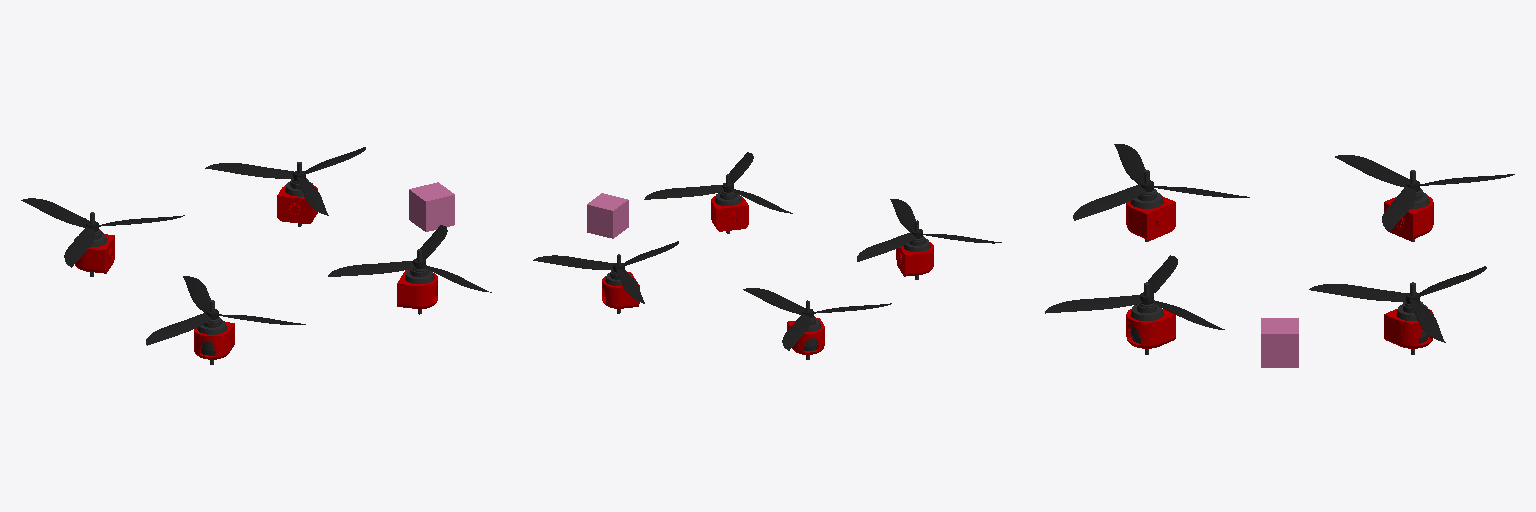
The robot description file, URDF, robot "beetle":
<?xml version="1.0" ?>
<!-- =================================================================================== -->
<!-- |    This document was autogenerated by xacro from robots/beetle.urdf.xacro       | -->
<!-- |    EDITING THIS FILE BY HAND IS NOT RECOMMENDED                                 | -->
<!-- =================================================================================== -->
<robot name="beetle">
  <!-- general attribute -->
  <baselink name="fc"/>
  <thrust_link name="thrust"/>
  <m_f_rate value="-0.0165"/>
  <!-- [N] -->

    ## dummy

  <link name="root">
    <inertial>
      <origin rpy="0 0 0" xyz="0 0 0"/>
      <mass value="0.00001"/>
      <inertia ixx="0.000001" ixy="0.0" ixz="0.0" iyy="0.000001" iyz="0.0" izz="0.000001"/>
    </inertial>
  </link>
  <joint name="root_joint" type="fixed">
    <parent link="root"/>
    <child link="base_link"/>
    <origin rpy="0 0 0" xyz="0 0 0"/>
    <axis xyz="0 0 1"/>
  </joint>


    ## link

  <link name="base_link">
    <inertial>
      <origin rpy="0 0 0" xyz="0.0050550 0.0002059 0.1416011"/>
      <mass value="2.3422286"/>
      <inertia ixx="0.0445802" ixy="-0.0000023" ixz="-0.0007664" iyy="0.0743446" iyz="-0.0000396" izz="0.0988890"/>
    </inertial>
    <visual>
      <origin rpy="0 0 3.141592" xyz="0 0 0.07"/>
      <geometry>
        <!-- <mesh filename="package://beetle/mesh/base_link.dae"/> -->
        <!-- <mesh filename="package://beetle/mesh/base_link.STL"/> -->
        <!-- <mesh filename="package://beetle/mesh/base_link_beetle_art.dae"/> -->
        <mesh filename="package://beetle/mesh/base_link_hyper.dae"/>
      </geometry>
    </visual>
    <collision>
      <origin rpy="0 0 0" xyz="0 0 0.1205"/>
      <geometry>
        <box size="0.52 0.52 0.241"/>
      </geometry>
    </collision>
  </link>
  <gazebo reference="base_link">
    <dampingFactor>0.00</dampingFactor>
  </gazebo>
  <link name="fc">
    <inertial>
      <origin rpy="0 0 0" xyz="0 0 0"/>
      <mass value="0.00001"/>
      <inertia ixx="0.000001" ixy="0.0" ixz="0.0" iyy="0.000001" iyz="0.0" izz="0.000001"/>
    </inertial>
  </link>
  <joint name="fc_joint" type="fixed">
    <child link="fc"/>
    <parent link="base_link"/>
    <origin rpy="0 0 0" xyz="0 0 0.12947"/>
    <axis xyz="0 0 1"/>
  </joint>


    ## rotor arm macro



    ## dummy rotor arms


      ## link

  <link name="rotor_arm1">
    <inertial>
      <origin rpy="0 0 0" xyz="0 0 0"/>
      <mass value="0.0001"/>
      <inertia ixx="0.000001" ixy="0.0" ixz="0.0" iyy="0.0001" iyz="0.0" izz="0.0001"/>
    </inertial>
  </link>

      ## joint

  <joint name="base_arm_joint1" type="fixed">
    <parent link="base_link"/>
    <child link="rotor_arm1"/>
    <origin rpy="0 0 0.7853981633974483" xyz="0.12488 0.12509 0.1185"/>
    <axis xyz="0 0 1"/>
  </joint>

      ## link

  <link name="rotor_arm2">
    <inertial>
      <origin rpy="0 0 0" xyz="0 0 0"/>
      <mass value="0.0001"/>
      <inertia ixx="0.000001" ixy="0.0" ixz="0.0" iyy="0.0001" iyz="0.0" izz="0.0001"/>
    </inertial>
  </link>

      ## joint

  <joint name="base_arm_joint2" type="fixed">
    <parent link="base_link"/>
    <child link="rotor_arm2"/>
    <origin rpy="0 0 2.356194490192345" xyz="-0.12488 0.12509 0.1185"/>
    <axis xyz="0 0 1"/>
  </joint>

      ## link

  <link name="rotor_arm3">
    <inertial>
      <origin rpy="0 0 0" xyz="0 0 0"/>
      <mass value="0.0001"/>
      <inertia ixx="0.000001" ixy="0.0" ixz="0.0" iyy="0.0001" iyz="0.0" izz="0.0001"/>
    </inertial>
  </link>

      ## joint

  <joint name="base_arm_joint3" type="fixed">
    <parent link="base_link"/>
    <child link="rotor_arm3"/>
    <origin rpy="0 0 3.9269908169872414" xyz="-0.12488 -0.12509 0.1185"/>
    <axis xyz="0 0 1"/>
  </joint>

      ## link

  <link name="rotor_arm4">
    <inertial>
      <origin rpy="0 0 0" xyz="0 0 0"/>
      <mass value="0.0001"/>
      <inertia ixx="0.000001" ixy="0.0" ixz="0.0" iyy="0.0001" iyz="0.0" izz="0.0001"/>
    </inertial>
  </link>

      ## joint

  <joint name="base_arm_joint4" type="fixed">
    <parent link="base_link"/>
    <child link="rotor_arm4"/>
    <origin rpy="0 0 -0.7853981633974483" xyz="0.12488 -0.12509 0.1185"/>
    <axis xyz="0 0 1"/>
  </joint>


    ## dummy link for the contact point coordinate

  <link name="contact_point">
    <inertial>
      <origin rpy="0 0 0" xyz="0 0 0"/>
      <mass value="0.0001"/>
      <inertia ixx="0.000001" ixy="0.0" ixz="0.0" iyy="0.0001" iyz="0.0" izz="0.0001"/>
    </inertial>
  </link>
  <joint name="cp_base_joint" type="fixed">
    <parent link="base_link"/>
    <child link="contact_point"/>
    <origin rpy="0 0 0" xyz="0.26 0 0"/>
    <axis xyz="0 0 1"/>
  </joint>
  <gazebo reference="linkbase_link">
    <mu1>0.1</mu1>
    <mu2>0.1</mu2>
  </gazebo>

    ## link
    #### rotor parent link (virtual) ####

  <link name="gimbal_link1">
    <inertial>
      <origin rpy="0 0 0" xyz="0.02239457 0.0 0.00766902"/>
      <mass value="0.15429"/>
      <inertia ixx="0.00006797" ixy="0.00000001" ixz="0.00000122" iyy="0.00006788" iyz="0.00000" izz="0.00007058"/>
    </inertial>
    <collision>
      <origin rpy="0 0 0" xyz="0.0 0 0"/>
      <geometry>
        <cylinder length="0.033" radius="0.02"/>
      </geometry>
    </collision>
    <visual>
      <origin rpy="0 0 0" xyz="0 0 0"/>
      <geometry>
        <mesh filename="package://beetle/mesh/rotor_module.dae"/>
      </geometry>
    </visual>
  </link>
  <gazebo reference="gimbal_link1">
    <dampingFactor>0.00</dampingFactor>
  </gazebo>


    ## rotor parent link (virtual)

  <link name="rotor_parent1">
    <inertial>
      <origin rpy="0 0 0" xyz="0 0 0"/>
      <mass value="0.00001"/>
      <inertia ixx="0.000001" ixy="0.0" ixz="0.0" iyy="0.000001" iyz="0.0" izz="0.000001"/>
    </inertial>
  </link>


    ## thrust link (virtual)

  <link name="thrust1">
    <inertial>
      <origin rpy="0 0 0" xyz="0 0 0"/>
      <mass value="0.005"/>
      <inertia ixx="0.001" ixy="0.0" ixz="0.0" iyy="0.001" iyz="0.0" izz="0.001"/>
    </inertial>
    <!-- <visual>
      <origin rpy="0 0 0" xyz="0 0 0"/>
      <geometry>
        <mesh filename="package://beetle/mesh/prop_5inch.dae"/>
      </geometry>
    </visual> -->
  </link>
  <gazebo reference="thrust1">
    <dampingFactor>0.00</dampingFactor>
  </gazebo>


    #### joints ####

    #### gimbal joints ####

  <joint name="gimbal1" type="revolute">
    <limit effort="6.6" lower="-1.57" upper="1.57" velocity="3.0"/>
    <parent link="rotor_arm1"/>
    <child link="gimbal_link1"/>
    <origin rpy="0 0 0" xyz="0 0 0"/>
    <axis xyz="1 0 0"/>
    <dynamics damping="0.8" friction="0.0"/>
  </joint>
  <transmission name="joint_tran1">
    <type>transmission_interface/SimpleTransmission</type>
    <joint name="gimbal1">
      <hardwareInterface>hardware_interface/EffortJointInterface</hardwareInterface>
    </joint>
    <actuator name="servo1">
      <hardwareInterface>hardware_interface/EffortJointInterface</hardwareInterface>
      <mechanicalReduction>1</mechanicalReduction>
    </actuator>
  </transmission>

    #### rotor parent link joint (virtual) ####

  <joint name="rotor_parent_link_joint1" type="fixed">
    <parent link="gimbal_link1"/>
    <child link="rotor_parent1"/>
    <origin rpy="0 0 0" xyz="0.018 0.00 0.00438"/>
    <axis xyz="0 0 -1"/>
  </joint>


    #### rotor joint (virtual) ####

  <joint name="rotor1" type="continuous">
    <limit effort="100.0" velocity="25.0"/>
    <parent link="rotor_parent1"/>
    <child link="thrust1"/>
    <origin rpy="0 0 0" xyz="0 0 0"/>
    <axis xyz="0 0 -1"/>
  </joint>
  <transmission name="rotor_tran1">
    <type>transmission_interface/SimpleTransmission</type>
    <joint name="rotor1">
      <hardwareInterface>RotorInterface</hardwareInterface>
    </joint>
    <actuator name="rotor_actuator1">
      <hardwareInterface>RotorInterface</hardwareInterface>
      <mechanicalReduction>1</mechanicalReduction>
    </actuator>
  </transmission>

    ## link
    #### rotor parent link (virtual) ####

  <link name="gimbal_link2">
    <inertial>
      <origin rpy="0 0 0" xyz="0.02239457 0.0 0.00766902"/>
      <mass value="0.15429"/>
      <inertia ixx="0.00006797" ixy="0.00000001" ixz="0.00000122" iyy="0.00006788" iyz="0.00000" izz="0.00007058"/>
    </inertial>
    <collision>
      <origin rpy="0 0 0" xyz="0.0 0 0"/>
      <geometry>
        <cylinder length="0.033" radius="0.02"/>
      </geometry>
    </collision>
    <visual>
      <origin rpy="0 0 0" xyz="0 0 0"/>
      <geometry>
        <mesh filename="package://beetle/mesh/rotor_module.dae"/>
      </geometry>
    </visual>
  </link>
  <gazebo reference="gimbal_link2">
    <dampingFactor>0.00</dampingFactor>
  </gazebo>


    ## rotor parent link (virtual)

  <link name="rotor_parent2">
    <inertial>
      <origin rpy="0 0 0" xyz="0 0 0"/>
      <mass value="0.00001"/>
      <inertia ixx="0.000001" ixy="0.0" ixz="0.0" iyy="0.000001" iyz="0.0" izz="0.000001"/>
    </inertial>
  </link>


    ## thrust link (virtual)

  <link name="thrust2">
    <inertial>
      <origin rpy="0 0 0" xyz="0 0 0"/>
      <mass value="0.005"/>
      <inertia ixx="0.001" ixy="0.0" ixz="0.0" iyy="0.001" iyz="0.0" izz="0.001"/>
    </inertial>
    <!-- <visual>
      <origin rpy="0 0 0" xyz="0 0 0"/>
      <geometry>
        <mesh filename="package://beetle/mesh/prop_5inch.dae"/>
      </geometry>
    </visual> -->
  </link>
  <gazebo reference="thrust2">
    <dampingFactor>0.00</dampingFactor>
  </gazebo>


    #### joints ####

    #### gimbal joints ####

  <joint name="gimbal2" type="revolute">
    <limit effort="6.6" lower="-1.57" upper="1.57" velocity="3.0"/>
    <parent link="rotor_arm2"/>
    <child link="gimbal_link2"/>
    <origin rpy="0 0 0" xyz="0 0 0"/>
    <axis xyz="1 0 0"/>
    <dynamics damping="0.8" friction="0.0"/>
  </joint>
  <transmission name="joint_tran2">
    <type>transmission_interface/SimpleTransmission</type>
    <joint name="gimbal2">
      <hardwareInterface>hardware_interface/EffortJointInterface</hardwareInterface>
    </joint>
    <actuator name="servo2">
      <hardwareInterface>hardware_interface/EffortJointInterface</hardwareInterface>
      <mechanicalReduction>1</mechanicalReduction>
    </actuator>
  </transmission>

    #### rotor parent link joint (virtual) ####

  <joint name="rotor_parent_link_joint2" type="fixed">
    <parent link="gimbal_link2"/>
    <child link="rotor_parent2"/>
    <origin rpy="0 0 0" xyz="0.018 0.00 0.00438"/>
    <axis xyz="0 0 1"/>
  </joint>


    #### rotor joint (virtual) ####

  <joint name="rotor2" type="continuous">
    <limit effort="100.0" velocity="25.0"/>
    <parent link="rotor_parent2"/>
    <child link="thrust2"/>
    <origin rpy="0 0 0" xyz="0 0 0"/>
    <axis xyz="0 0 1"/>
  </joint>
  <transmission name="rotor_tran2">
    <type>transmission_interface/SimpleTransmission</type>
    <joint name="rotor2">
      <hardwareInterface>RotorInterface</hardwareInterface>
    </joint>
    <actuator name="rotor_actuator2">
      <hardwareInterface>RotorInterface</hardwareInterface>
      <mechanicalReduction>1</mechanicalReduction>
    </actuator>
  </transmission>

    ## link
    #### rotor parent link (virtual) ####

  <link name="gimbal_link3">
    <inertial>
      <origin rpy="0 0 0" xyz="0.02239457 0.0 0.00766902"/>
      <mass value="0.15429"/>
      <inertia ixx="0.00006797" ixy="0.00000001" ixz="0.00000122" iyy="0.00006788" iyz="0.00000" izz="0.00007058"/>
    </inertial>
    <collision>
      <origin rpy="0 0 0" xyz="0.0 0 0"/>
      <geometry>
        <cylinder length="0.033" radius="0.02"/>
      </geometry>
    </collision>
    <visual>
      <origin rpy="0 0 0" xyz="0 0 0"/>
      <geometry>
        <mesh filename="package://beetle/mesh/rotor_module.dae"/>
      </geometry>
    </visual>
  </link>
  <gazebo reference="gimbal_link3">
    <dampingFactor>0.00</dampingFactor>
  </gazebo>


    ## rotor parent link (virtual)

  <link name="rotor_parent3">
    <inertial>
      <origin rpy="0 0 0" xyz="0 0 0"/>
      <mass value="0.00001"/>
      <inertia ixx="0.000001" ixy="0.0" ixz="0.0" iyy="0.000001" iyz="0.0" izz="0.000001"/>
    </inertial>
  </link>


    ## thrust link (virtual)

  <link name="thrust3">
    <inertial>
      <origin rpy="0 0 0" xyz="0 0 0"/>
      <mass value="0.005"/>
      <inertia ixx="0.001" ixy="0.0" ixz="0.0" iyy="0.001" iyz="0.0" izz="0.001"/>
    </inertial>
    <!-- <visual>
      <origin rpy="0 0 0" xyz="0 0 0"/>
      <geometry>
        <mesh filename="package://beetle/mesh/prop_5inch.dae"/>
      </geometry>
    </visual> -->
  </link>
  <gazebo reference="thrust3">
    <dampingFactor>0.00</dampingFactor>
  </gazebo>


    #### joints ####

    #### gimbal joints ####

  <joint name="gimbal3" type="revolute">
    <limit effort="6.6" lower="-1.57" upper="1.57" velocity="3.0"/>
    <parent link="rotor_arm3"/>
    <child link="gimbal_link3"/>
    <origin rpy="0 0 0" xyz="0 0 0"/>
    <axis xyz="1 0 0"/>
    <dynamics damping="0.8" friction="0.0"/>
  </joint>
  <transmission name="joint_tran3">
    <type>transmission_interface/SimpleTransmission</type>
    <joint name="gimbal3">
      <hardwareInterface>hardware_interface/EffortJointInterface</hardwareInterface>
    </joint>
    <actuator name="servo3">
      <hardwareInterface>hardware_interface/EffortJointInterface</hardwareInterface>
      <mechanicalReduction>1</mechanicalReduction>
    </actuator>
  </transmission>

    #### rotor parent link joint (virtual) ####

  <joint name="rotor_parent_link_joint3" type="fixed">
    <parent link="gimbal_link3"/>
    <child link="rotor_parent3"/>
    <origin rpy="0 0 0" xyz="0.018 0.00 0.00438"/>
    <axis xyz="0 0 -1"/>
  </joint>


    #### rotor joint (virtual) ####

  <joint name="rotor3" type="continuous">
    <limit effort="100.0" velocity="25.0"/>
    <parent link="rotor_parent3"/>
    <child link="thrust3"/>
    <origin rpy="0 0 0" xyz="0 0 0"/>
    <axis xyz="0 0 -1"/>
  </joint>
  <transmission name="rotor_tran3">
    <type>transmission_interface/SimpleTransmission</type>
    <joint name="rotor3">
      <hardwareInterface>RotorInterface</hardwareInterface>
    </joint>
    <actuator name="rotor_actuator3">
      <hardwareInterface>RotorInterface</hardwareInterface>
      <mechanicalReduction>1</mechanicalReduction>
    </actuator>
  </transmission>

    ## link
    #### rotor parent link (virtual) ####

  <link name="gimbal_link4">
    <inertial>
      <origin rpy="0 0 0" xyz="0.02239457 0.0 0.00766902"/>
      <mass value="0.15429"/>
      <inertia ixx="0.00006797" ixy="0.00000001" ixz="0.00000122" iyy="0.00006788" iyz="0.00000" izz="0.00007058"/>
    </inertial>
    <collision>
      <origin rpy="0 0 0" xyz="0.0 0 0"/>
      <geometry>
        <cylinder length="0.033" radius="0.02"/>
      </geometry>
    </collision>
    <visual>
      <origin rpy="0 0 0" xyz="0 0 0"/>
      <geometry>
        <mesh filename="package://beetle/mesh/rotor_module.dae"/>
      </geometry>
    </visual>
  </link>
  <gazebo reference="gimbal_link4">
    <dampingFactor>0.00</dampingFactor>
  </gazebo>


    ## rotor parent link (virtual)

  <link name="rotor_parent4">
    <inertial>
      <origin rpy="0 0 0" xyz="0 0 0"/>
      <mass value="0.00001"/>
      <inertia ixx="0.000001" ixy="0.0" ixz="0.0" iyy="0.000001" iyz="0.0" izz="0.000001"/>
    </inertial>
  </link>


    ## thrust link (virtual)

  <link name="thrust4">
    <inertial>
      <origin rpy="0 0 0" xyz="0 0 0"/>
      <mass value="0.005"/>
      <inertia ixx="0.001" ixy="0.0" ixz="0.0" iyy="0.001" iyz="0.0" izz="0.001"/>
    </inertial>
    <!-- <visual>
      <origin rpy="0 0 0" xyz="0 0 0"/>
      <geometry>
        <mesh filename="package://beetle/mesh/prop_5inch.dae"/>
      </geometry>
    </visual> -->
  </link>
  <gazebo reference="thrust4">
    <dampingFactor>0.00</dampingFactor>
  </gazebo>


    #### joints ####

    #### gimbal joints ####

  <joint name="gimbal4" type="revolute">
    <limit effort="6.6" lower="-1.57" upper="1.57" velocity="3.0"/>
    <parent link="rotor_arm4"/>
    <child link="gimbal_link4"/>
    <origin rpy="0 0 0" xyz="0 0 0"/>
    <axis xyz="1 0 0"/>
    <dynamics damping="0.8" friction="0.0"/>
  </joint>
  <transmission name="joint_tran4">
    <type>transmission_interface/SimpleTransmission</type>
    <joint name="gimbal4">
      <hardwareInterface>hardware_interface/EffortJointInterface</hardwareInterface>
    </joint>
    <actuator name="servo4">
      <hardwareInterface>hardware_interface/EffortJointInterface</hardwareInterface>
      <mechanicalReduction>1</mechanicalReduction>
    </actuator>
  </transmission>

    #### rotor parent link joint (virtual) ####

  <joint name="rotor_parent_link_joint4" type="fixed">
    <parent link="gimbal_link4"/>
    <child link="rotor_parent4"/>
    <origin rpy="0 0 0" xyz="0.018 0.00 0.00438"/>
    <axis xyz="0 0 1"/>
  </joint>


    #### rotor joint (virtual) ####

  <joint name="rotor4" type="continuous">
    <limit effort="100.0" velocity="25.0"/>
    <parent link="rotor_parent4"/>
    <child link="thrust4"/>
    <origin rpy="0 0 0" xyz="0 0 0"/>
    <axis xyz="0 0 1"/>
  </joint>
  <transmission name="rotor_tran4">
    <type>transmission_interface/SimpleTransmission</type>
    <joint name="rotor4">
      <hardwareInterface>RotorInterface</hardwareInterface>
    </joint>
    <actuator name="rotor_actuator4">
      <hardwareInterface>RotorInterface</hardwareInterface>
      <mechanicalReduction>1</mechanicalReduction>
    </actuator>
  </transmission>



  ##### dummy grasp links ####

  <joint name="base_dummy_arm_joint" type="fixed">
    <parent link="base_link"/>
    <child link="dummy_arm"/>
    <origin rpy="0 0 0" xyz="0.22 0 0.1455"/>
  </joint>
  <link name="dummy_arm">
    <inertial>
      <mass value="0.01"/>
      <origin rpy="0 0 0" xyz="0.05 0 0"/>
      <inertia ixx="0.0001" ixy="0.0000" ixz="0.0000" iyy="0.0001" iyz="0.0000" izz="0.0001"/>
    </inertial>
  </link>
  <joint name="dummy_arm_palm_joint" type="fixed">
    <parent link="dummy_arm"/>
    <child link="dummy_palm"/>
    <origin rpy="0 0 0" xyz="0.02 0 0"/>
    <!-- <axis xyz="1 0 0"/>
    <limit effort="0" lower="0" upper="0" velocity="0"/>
    <dynamics damping="0.2" friction="0.02"/> -->
  </joint>
  <link name="dummy_palm">
    <inertial>
      <mass value="0.001"/>
      <origin rpy="0 0 0" xyz="0 0 0"/>
      <inertia ixx="0.0001" ixy="0.0000" ixz="0.0000" iyy="0.0001" iyz="0.0000" izz="0.0001"/>
    </inertial>
    <collision>
      <origin rpy="0 0 0" xyz="0 0 0"/>
      <geometry>
        <box size="0.04 0.04 0.04"/>
      </geometry>
    </collision>
  </link>
  <joint name="dummy_palm_gripper_joint" type="fixed">
    <parent link="dummy_palm"/>
    <child link="dummy_gripper"/>
    <origin rpy="0 0 0" xyz="0 0 0"/>
    <!-- <axis xyz="1 0 0"/>
    <limit effort="0" lower="0" upper="0" velocity="0"/>
    <dynamics damping="0.2" friction="0.02"/> -->
  </joint>
  <link name="dummy_gripper">
    <inertial>
      <mass value="0.001"/>
      <origin rpy="0 0 0" xyz="0.0 0 0"/>
      <inertia ixx="0.0001" ixy="0.0000" ixz="0.0000" iyy="0.0001" iyz="0.0000" izz="0.0001"/>
    </inertial>
    <collision>
      <origin rpy="0 0 0" xyz="0 0 0"/>
      <geometry>
        <box size="0.04 0.04 0.04"/>
      </geometry>
    </collision>
    <visual>
      <origin rpy="0.0 0 0" xyz="0 0 0"/>
      <geometry>
        <box size="0.04 0.04 0.04"/>
      </geometry>
    </visual>
  </link>
</robot>

--- Render facts (derived) ---
3 views of the same robot in one strip: view 1: azimuth 30°, elevation 25°; view 2: azimuth 150°, elevation 25°; view 3: azimuth 270°, elevation 25° (orthographic).
Model beetle with 23 links and 22 joints (4 revolute, 4 continuous, 14 fixed), rooted at root, posed every joint at zero.
Links seen in each view (by area): view 1: gimbal_link4, gimbal_link3, gimbal_link1, gimbal_link2, dummy_gripper; view 2: gimbal_link4, gimbal_link3, gimbal_link1, gimbal_link2, dummy_gripper; view 3: gimbal_link3, gimbal_link4, gimbal_link1, gimbal_link2, dummy_gripper.
Boxes of the visible links, left/top/right/bottom form: gimbal_link4: left=328, top=225, right=491, bottom=314; gimbal_link3: left=146, top=276, right=305, bottom=364; gimbal_link1: left=205, top=147, right=365, bottom=226; gimbal_link2: left=21, top=198, right=184, bottom=276; dummy_gripper: left=409, top=182, right=454, bottom=231; gimbal_link4: left=644, top=152, right=792, bottom=233; gimbal_link3: left=857, top=199, right=1001, bottom=279; gimbal_link1: left=533, top=241, right=678, bottom=313; gimbal_link2: left=743, top=288, right=891, bottom=359; dummy_gripper: left=587, top=193, right=628, bottom=238; gimbal_link3: left=1073, top=144, right=1249, bottom=241; gimbal_link4: left=1045, top=255, right=1224, bottom=354; gimbal_link1: left=1309, top=266, right=1486, bottom=354; gimbal_link2: left=1335, top=155, right=1514, bottom=241; dummy_gripper: left=1261, top=318, right=1298, bottom=367.
Size in the robot's own frame: 0.5105 by 0.5014 by 0.0825 metres.
Meshes: 2 distinct files referenced, 4 mesh visuals loaded (1 Collada DAE); not drawn: 1 (file found but could not be loaded).
